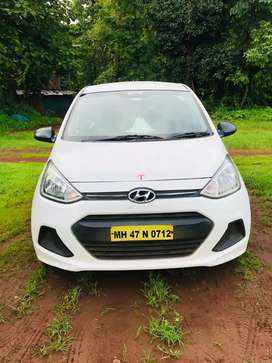MH47N0712: (111, 225, 173, 240)
